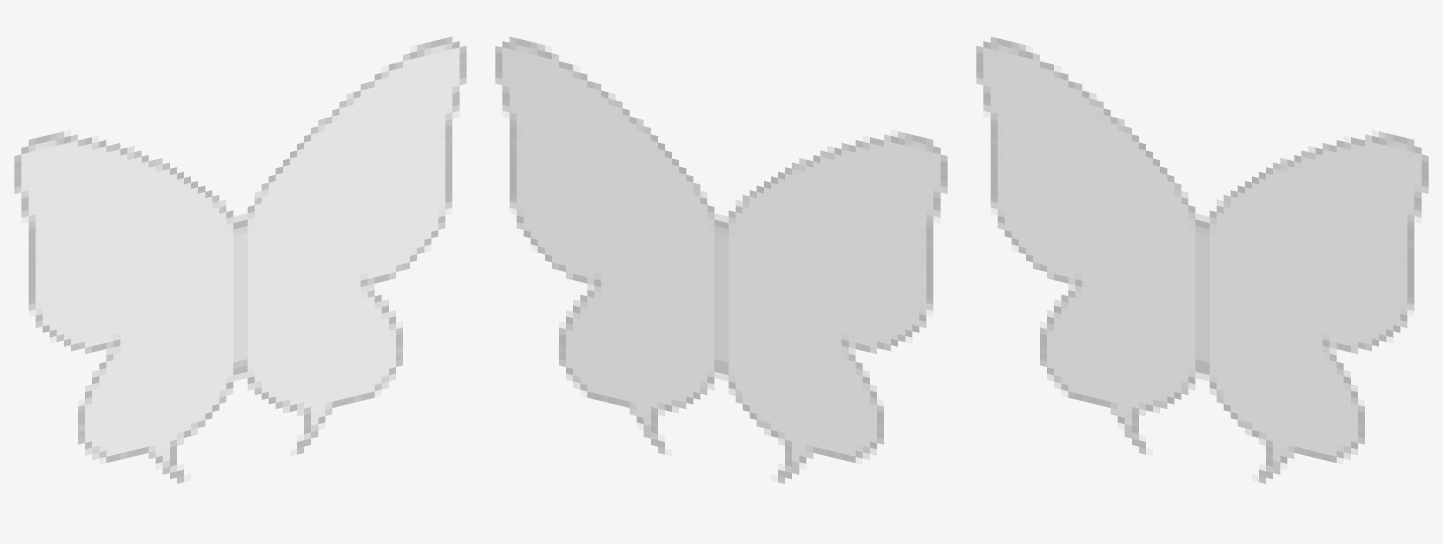
The model's file is si_eos_5000.glb.
3 views of the same model, side by side, from view 1: azimuth 30°, elevation 25°; view 2: azimuth 150°, elevation 25°; view 3: azimuth 330°, elevation 25° (orthographic).
Parts seen in each view (by area): view 1: layer_00_si_eos_5000, layer_01_si_eos_5000; view 2: layer_01_si_eos_5000, layer_00_si_eos_5000; view 3: layer_01_si_eos_5000, layer_00_si_eos_5000.
Boxes of the visible parts, bbox=[...] form: layer_00_si_eos_5000: bbox=[14, 131, 240, 483]; layer_01_si_eos_5000: bbox=[240, 37, 466, 454]; layer_01_si_eos_5000: bbox=[495, 37, 721, 454]; layer_00_si_eos_5000: bbox=[721, 131, 947, 483]; layer_01_si_eos_5000: bbox=[1202, 131, 1428, 483]; layer_00_si_eos_5000: bbox=[976, 37, 1202, 454].
Bounding box in the file's own units: 56 × 48 × 3.62e-06.
1 material, 1 textured.
